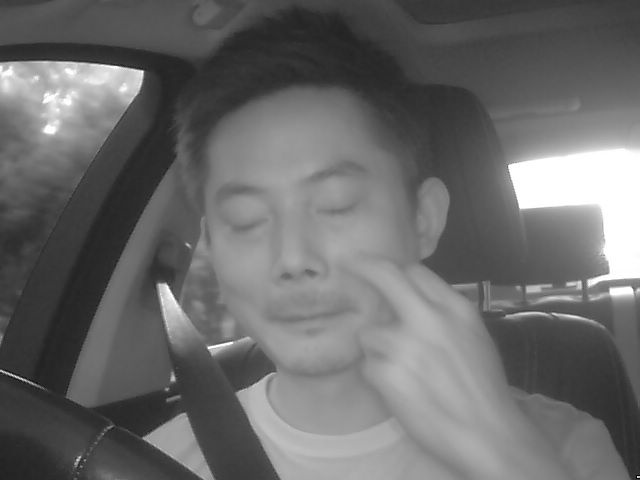hand: (337, 244, 510, 448)
